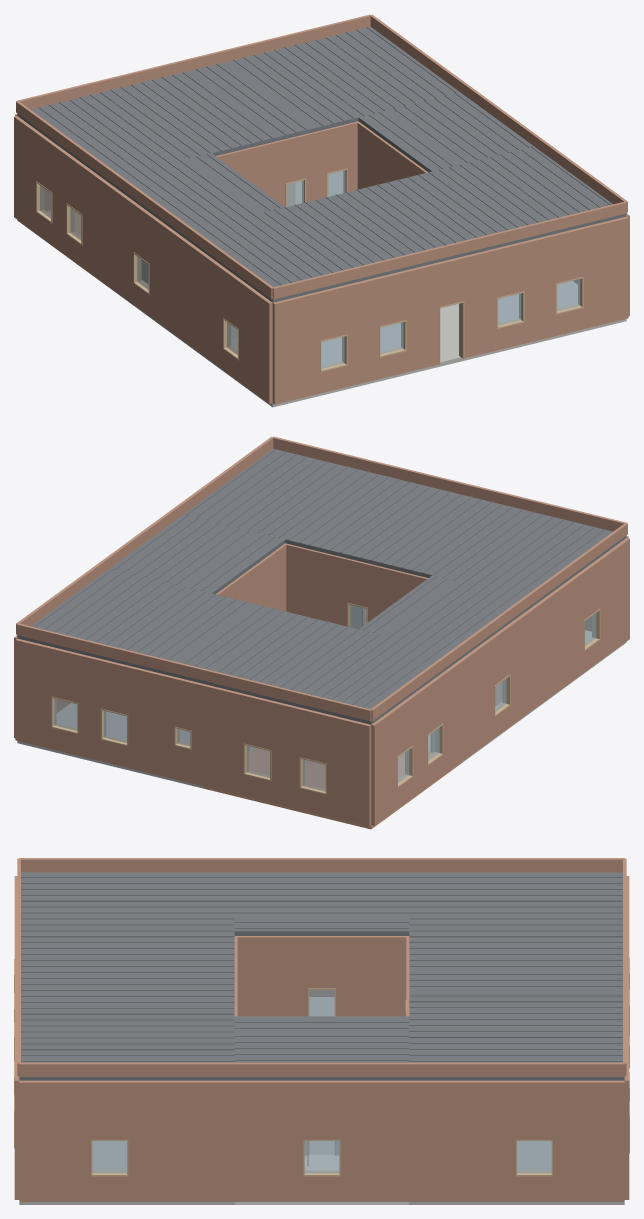
3 views of the same model, one above another, from view 1: azimuth 30°, elevation 25°; view 2: azimuth 150°, elevation 25°; view 3: azimuth 270°, elevation 25° (orthographic). The views are drawn at different scales.
Visible parts, largest first — view 1: wall:W-4e16594d8ce7 (×11), roof:roof-retail, roof:roof-cafe, roof:roof-studio, wall:W-0a0d361ab02f (×4), wall:W-fada4c001557 (×4), wall:W-b1660c7f2991 (×4), roof:parapet-retail (×3), roof:roof-kitchen, roof:roof-storage, roof:roof-gallery-retail, floor:slab-retail (+18 smaller); view 2: roof:roof-retail, wall:W-6a10605414e1 (×5), wall:W-3ddc66c885ba (×5), roof:roof-cafe, roof:roof-studio, wall:W-0a0d361ab02f (×4), wall:W-fada4c001557 (×4), wall:W-b1660c7f2991 (×4), wall:W-1a1c03d6e578 (×2), roof:parapet-retail (×3), roof:roof-gallery-retail, roof:roof-kitchen (+18 smaller); view 3: roof:roof-retail, wall:W-c8cf5dce5b13 (×4), wall:W-be52cbbde478 (×4), wall:W-80f0de844ffc (×4), roof:roof-cafe, wall:W-a1f5cd609ede (×3), roof:roof-studio, roof:roof-storage, roof:roof-gallery-retail, roof:parapet-retail (×3), roof:roof-kitchen, wall:W-6424f8fcbe64 (+22 smaller).
Part boxes in pixels (bbox=[...]): wall:W-4e16594d8ce7 (×11): bbox=[272, 216, 628, 404]; roof:roof-retail: bbox=[196, 157, 626, 302]; roof:roof-cafe: bbox=[17, 72, 275, 181]; roof:roof-studio: bbox=[223, 26, 445, 117]; wall:W-0a0d361ab02f (×4): bbox=[14, 116, 107, 283]; wall:W-fada4c001557 (×4): bbox=[193, 247, 272, 403]; wall:W-b1660c7f2991 (×4): bbox=[104, 182, 181, 337]; roof:parapet-retail (×3): bbox=[195, 146, 627, 299]; roof:roof-kitchen: bbox=[384, 92, 533, 165]; roof:roof-storage: bbox=[108, 159, 259, 235]; roof:roof-gallery-retail: bbox=[182, 146, 548, 246]; floor:slab-retail: bbox=[196, 281, 626, 407]; roof:roof-retail: bbox=[198, 448, 626, 593]; wall:W-6a10605414e1 (×5): bbox=[201, 684, 371, 826]; wall:W-3ddc66c885ba (×5): bbox=[15, 638, 165, 776]; roof:roof-cafe: bbox=[203, 613, 461, 724]; roof:roof-studio: bbox=[17, 579, 242, 674]; wall:W-0a0d361ab02f (×4): bbox=[371, 658, 465, 825]; wall:W-fada4c001557 (×4): bbox=[550, 538, 629, 694]; wall:W-b1660c7f2991 (×4): bbox=[462, 604, 539, 759]; wall:W-1a1c03d6e578 (×2): bbox=[284, 543, 427, 626]; roof:parapet-retail (×3): bbox=[195, 436, 627, 589]; roof:roof-gallery-retail: bbox=[183, 504, 550, 603]; roof:roof-kitchen: bbox=[110, 514, 259, 587]; roof:roof-retail: bbox=[19, 872, 199, 1080]; wall:W-c8cf5dce5b13 (×4): bbox=[19, 1080, 199, 1201]; wall:W-be52cbbde478 (×4): bbox=[444, 1080, 624, 1201]; wall:W-80f0de844ffc (×4): bbox=[234, 1080, 409, 1201]; roof:roof-cafe: bbox=[409, 872, 622, 968]; wall:W-a1f5cd609ede (×3): bbox=[236, 936, 408, 1016]; roof:roof-studio: bbox=[444, 990, 624, 1080]; roof:roof-storage: bbox=[234, 872, 409, 916]; roof:roof-gallery-retail: bbox=[200, 872, 234, 1080]; roof:parapet-retail (×3): bbox=[17, 858, 199, 1076]; roof:roof-kitchen: bbox=[234, 1031, 409, 1080]; wall:W-6424f8fcbe64: bbox=[200, 1080, 234, 1201].
Bounding box in the file's own units: 15.82 × 4.99 × 19.7.
